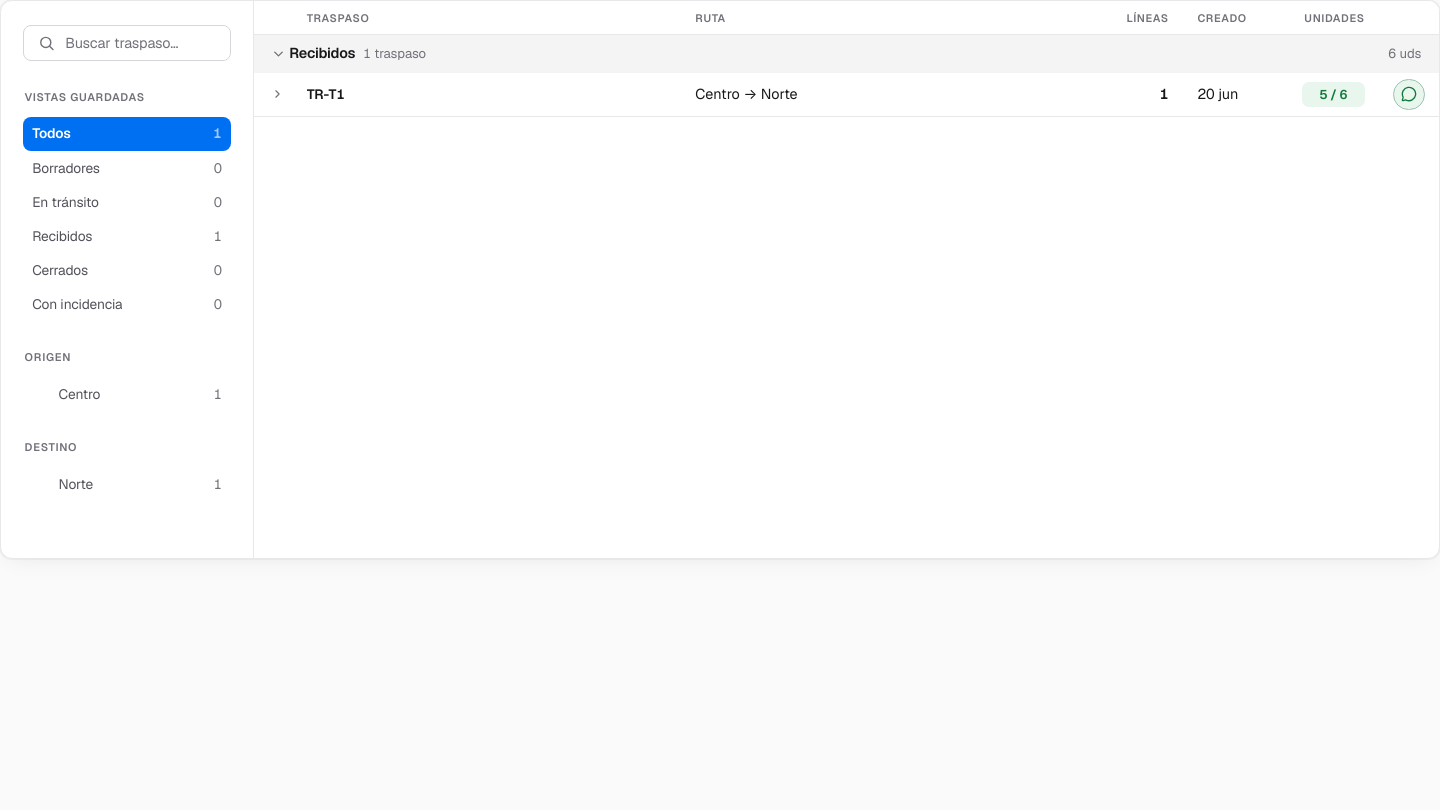
TransfersSection v2 — grupos, detalle en línea y ciclo de vida › marca como «Solucionado» una incidencia ya resuelta
Click the row with test id "transfer-row": (846, 95) [254, 73, 1439, 117]
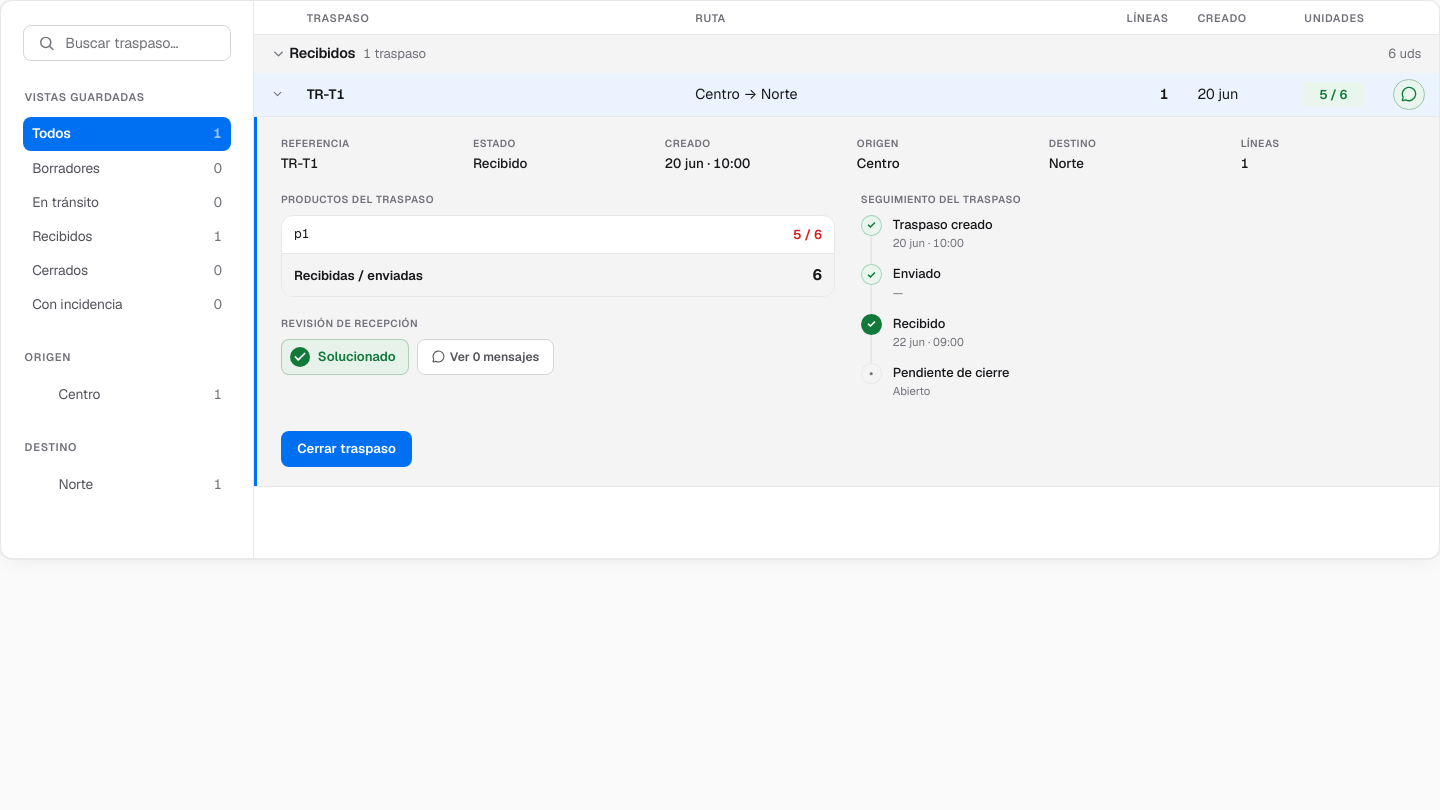
Expected: the element with test id "transfer-review-resolved" reads "Solucionado", [318, 348, 396, 365]
